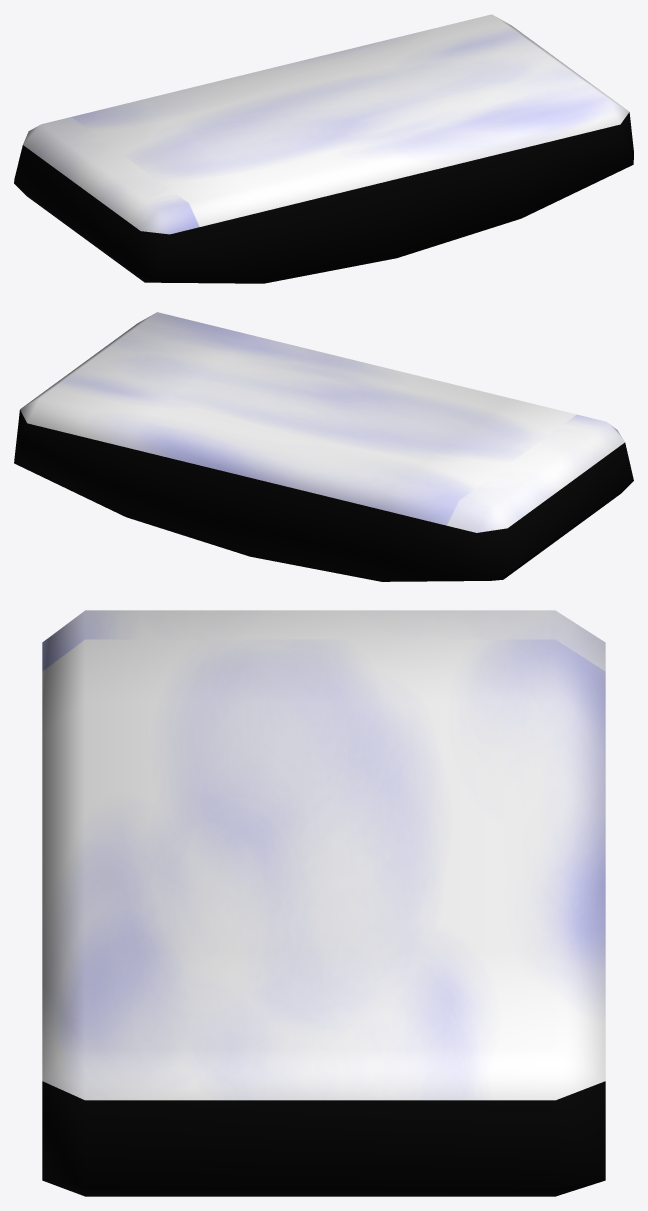
Rendered from rd_a21_top.obj.
The picture shows the model from 3 angles, top to bottom: view 1: azimuth 30°, elevation 25°; view 2: azimuth 150°, elevation 25°; view 3: azimuth 270°, elevation 25°; orthographic projection. The views are drawn at different scales.
Visible parts, largest first — view 1: polySurface8; view 2: polySurface8; view 3: polySurface8.
Part boxes in pixels (<box>): polySurface8: <box>14,14,633,283</box>; polySurface8: <box>14,312,633,581</box>; polySurface8: <box>42,610,605,1196</box>.
Size of the model in its own units: 216 by 42.4 by 105.
2 materials, 1 textured.
